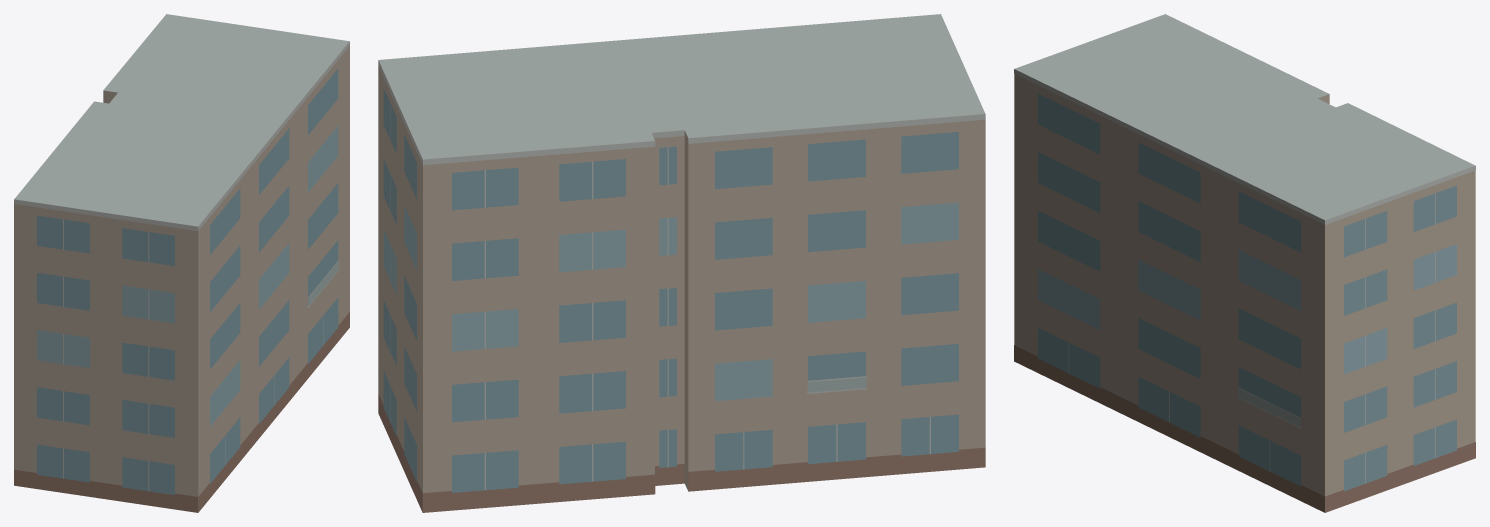
Rendered from survey-upis-32626502.glb.
3 views of the same model, side by side, from view 1: azimuth 30°, elevation 25°; view 2: azimuth 150°, elevation 25°; view 3: azimuth 270°, elevation 25° (orthographic). The views are drawn at different scales.
Visible parts, largest first — view 1: survey-upis-32626502.tmp; view 2: survey-upis-32626502.tmp; view 3: survey-upis-32626502.tmp.
Boxes of the visible parts, x1,y1,x2,y2 form: survey-upis-32626502.tmp: (14, 14, 349, 512); survey-upis-32626502.tmp: (378, 14, 985, 512); survey-upis-32626502.tmp: (1014, 14, 1475, 512).
Bounding box in the file's own units: 23.08 × 15.25 × 21.81.
